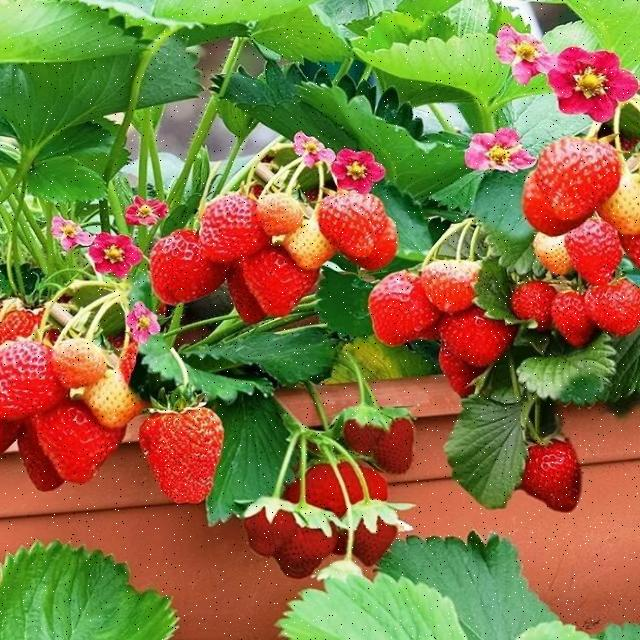Ripe Strawberry: (141, 402, 222, 507), (540, 132, 618, 225), (34, 408, 114, 487), (516, 443, 588, 519), (360, 276, 430, 352), (142, 226, 207, 298), (150, 238, 214, 304), (318, 191, 382, 254), (315, 189, 375, 255), (0, 330, 49, 409), (206, 186, 260, 254), (248, 263, 310, 322), (444, 315, 513, 368), (274, 525, 333, 585), (586, 286, 640, 339), (422, 257, 476, 308), (53, 342, 110, 388), (352, 518, 401, 570), (5, 433, 47, 492), (227, 282, 268, 328), (244, 508, 284, 554), (556, 294, 588, 351), (339, 410, 378, 456), (433, 346, 469, 394), (512, 284, 551, 328), (387, 419, 415, 474), (4, 297, 40, 338), (429, 343, 448, 376), (204, 295, 217, 307)
